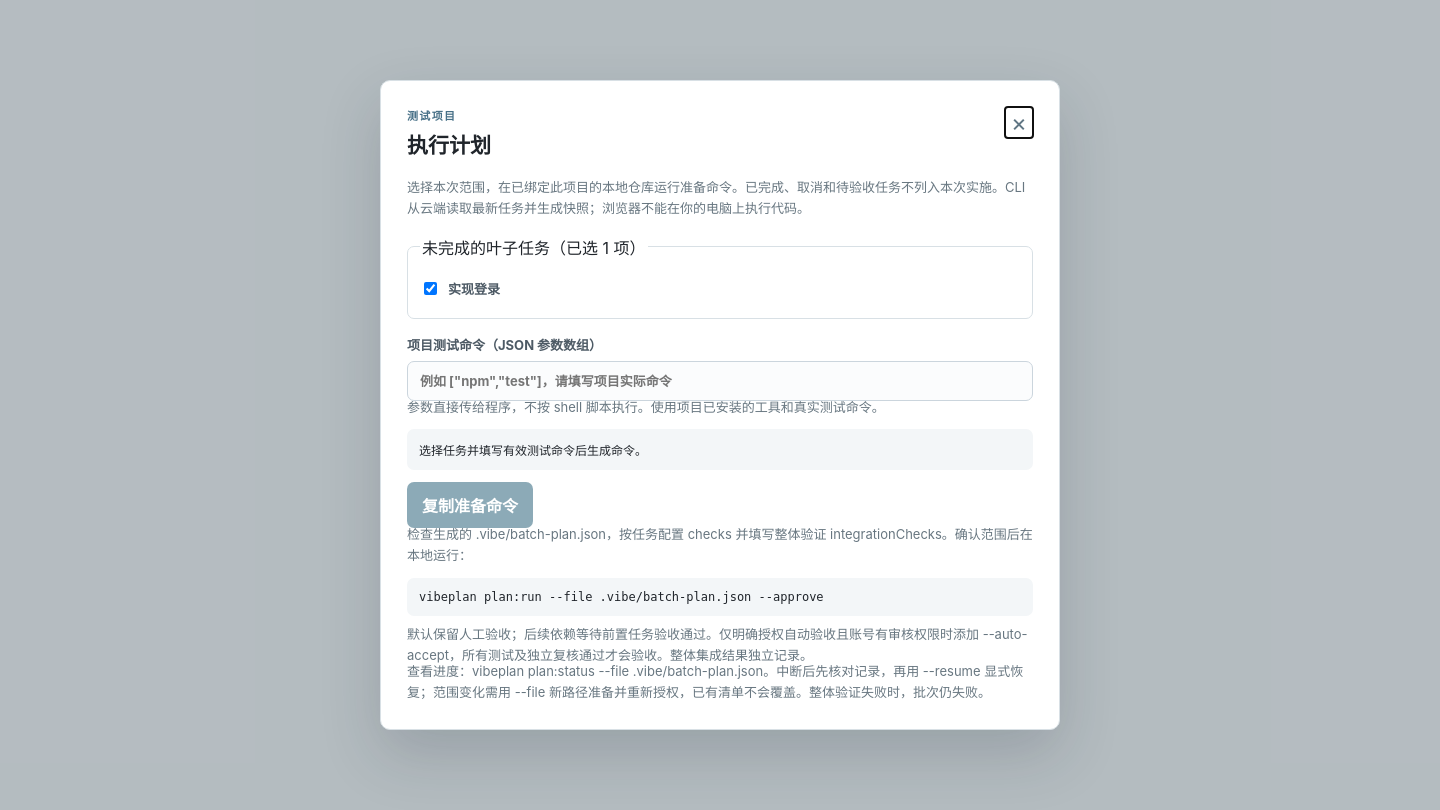
Test: selects unfinished leaves and requires an explicit real project check
Check: the checkbox labelled "实现登录" is shown, box [424,282,437,294]
Check: the button "复制准备命令" is disabled, box [407,482,533,528]
Type "[\"npm\",\"test\"]" into the field labelled "项目测试命令（JSON 参数数组）" at (720, 380), box [407,360,1033,400]
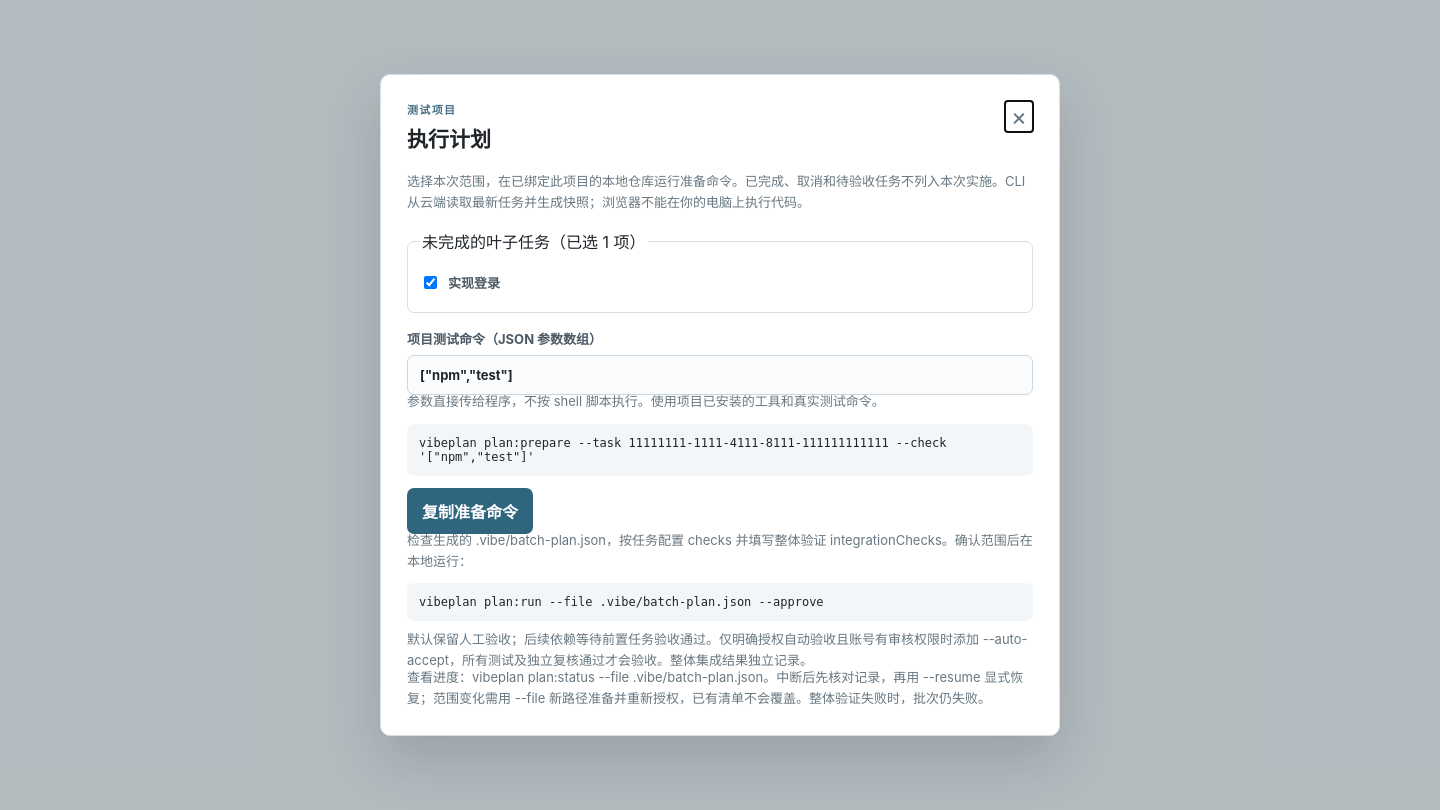
Click the checkbox labelled "实现登录" at (430, 282), box [424,276,437,289]
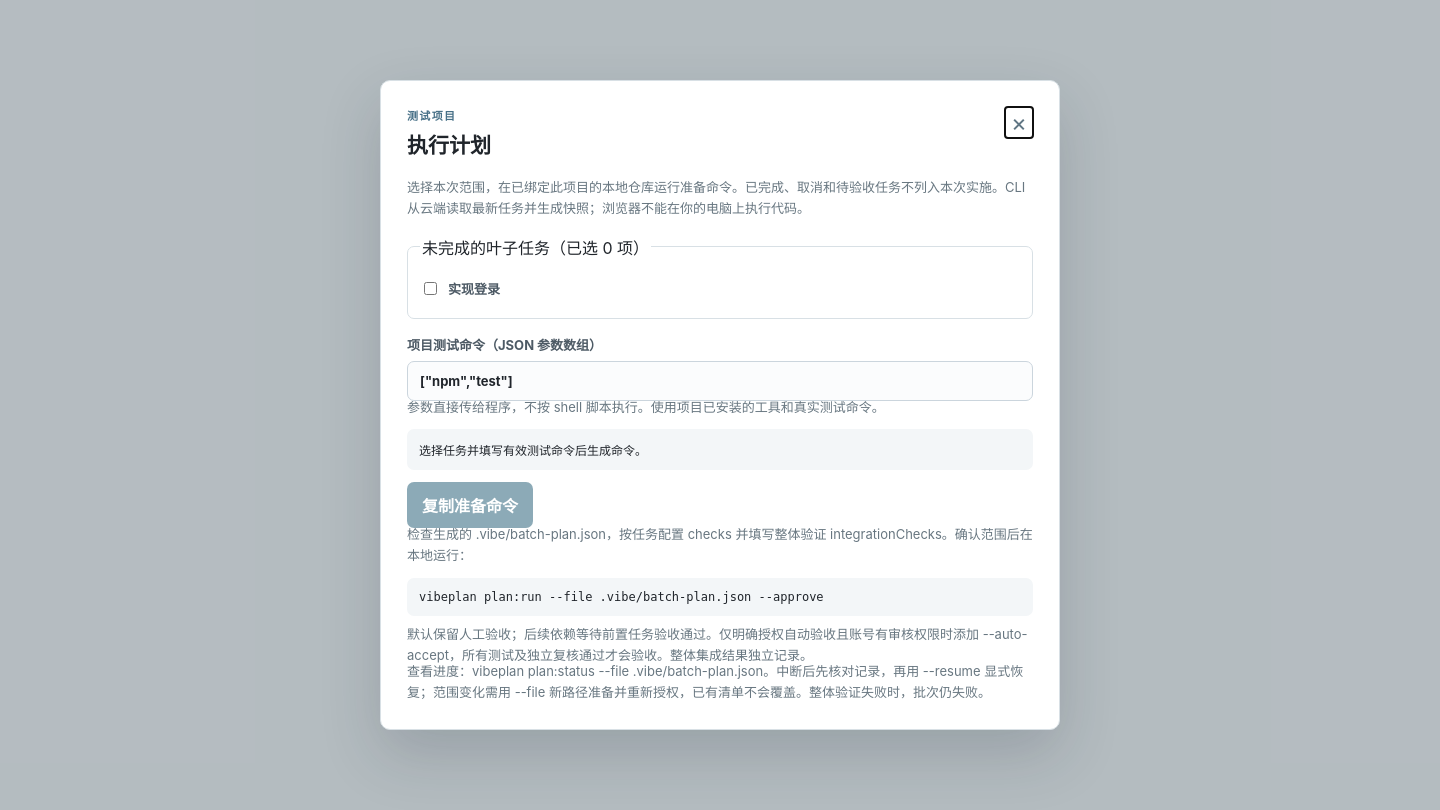
Check: the button "复制准备命令" is disabled, box [407,482,533,528]
